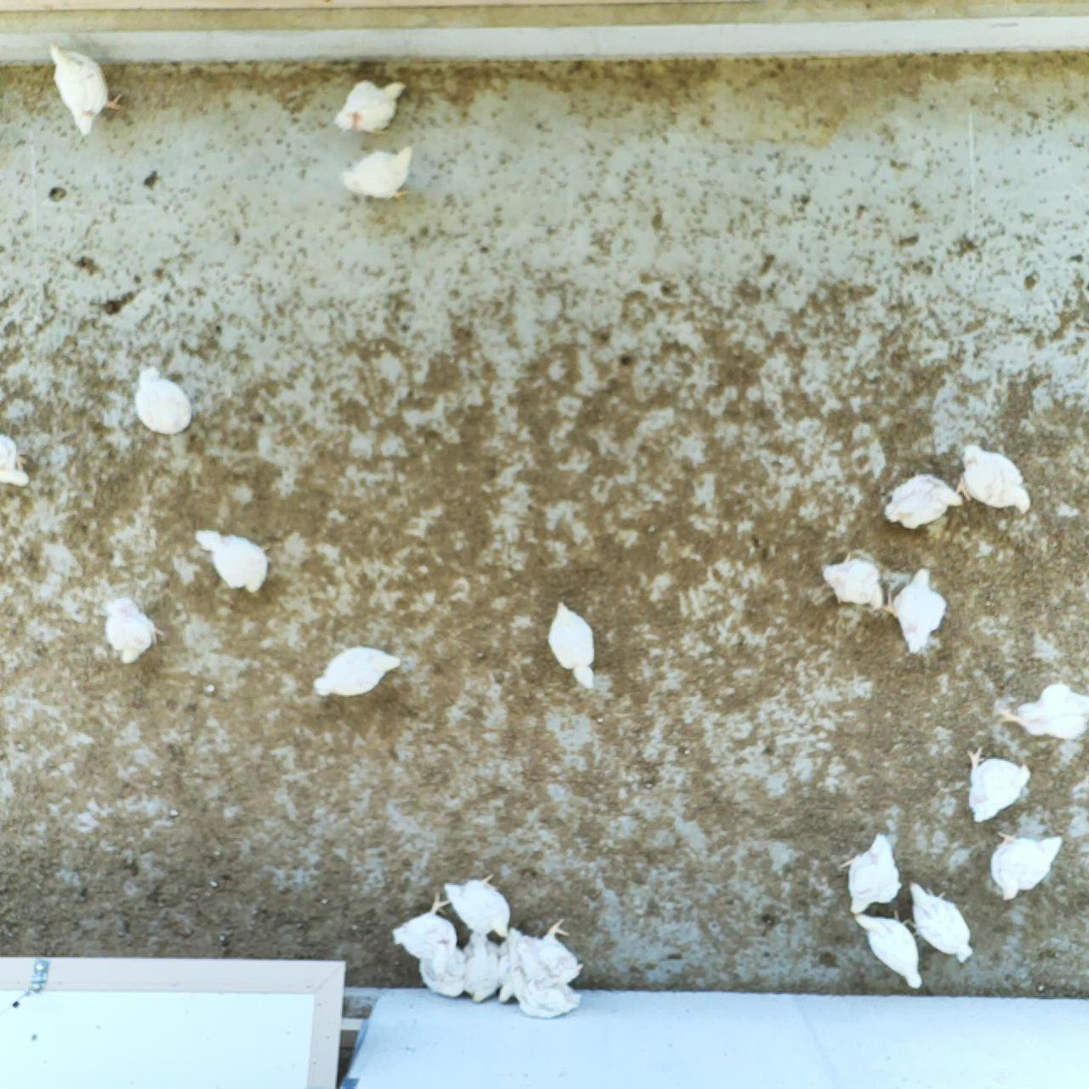chicken: (44, 37, 125, 146), (508, 916, 587, 1021), (947, 435, 1038, 518), (872, 565, 952, 659), (991, 675, 1089, 748), (388, 887, 460, 986), (835, 825, 906, 921), (848, 907, 927, 992), (904, 877, 979, 966), (987, 825, 1067, 908), (540, 594, 605, 695), (957, 742, 1034, 827), (189, 525, 274, 599), (874, 468, 965, 536), (308, 643, 403, 704), (101, 591, 174, 670), (327, 73, 407, 142), (336, 141, 417, 208), (441, 869, 515, 940), (133, 362, 196, 442), (821, 552, 892, 619), (458, 929, 506, 1006), (418, 942, 470, 999), (496, 924, 529, 1006), (0, 431, 35, 490)
